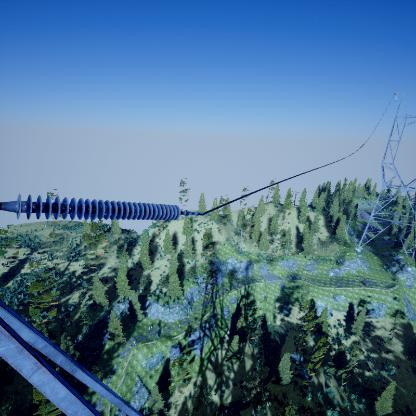insulator: (15, 193, 181, 223)
